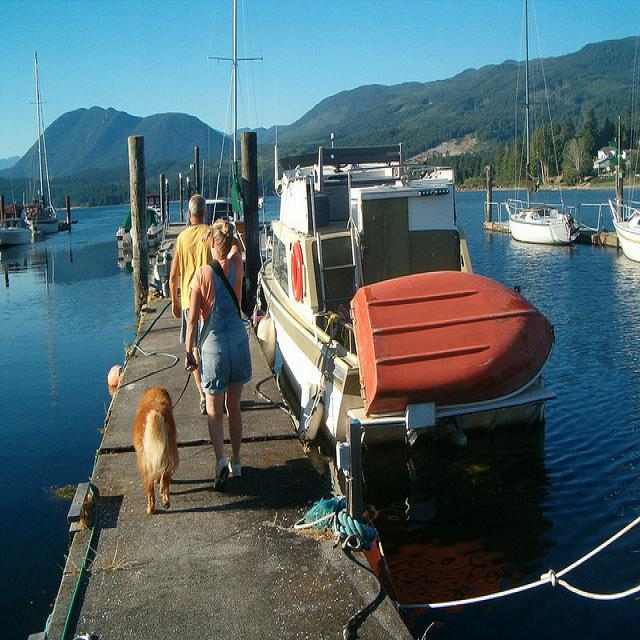houseboat: (230, 115, 557, 446)
